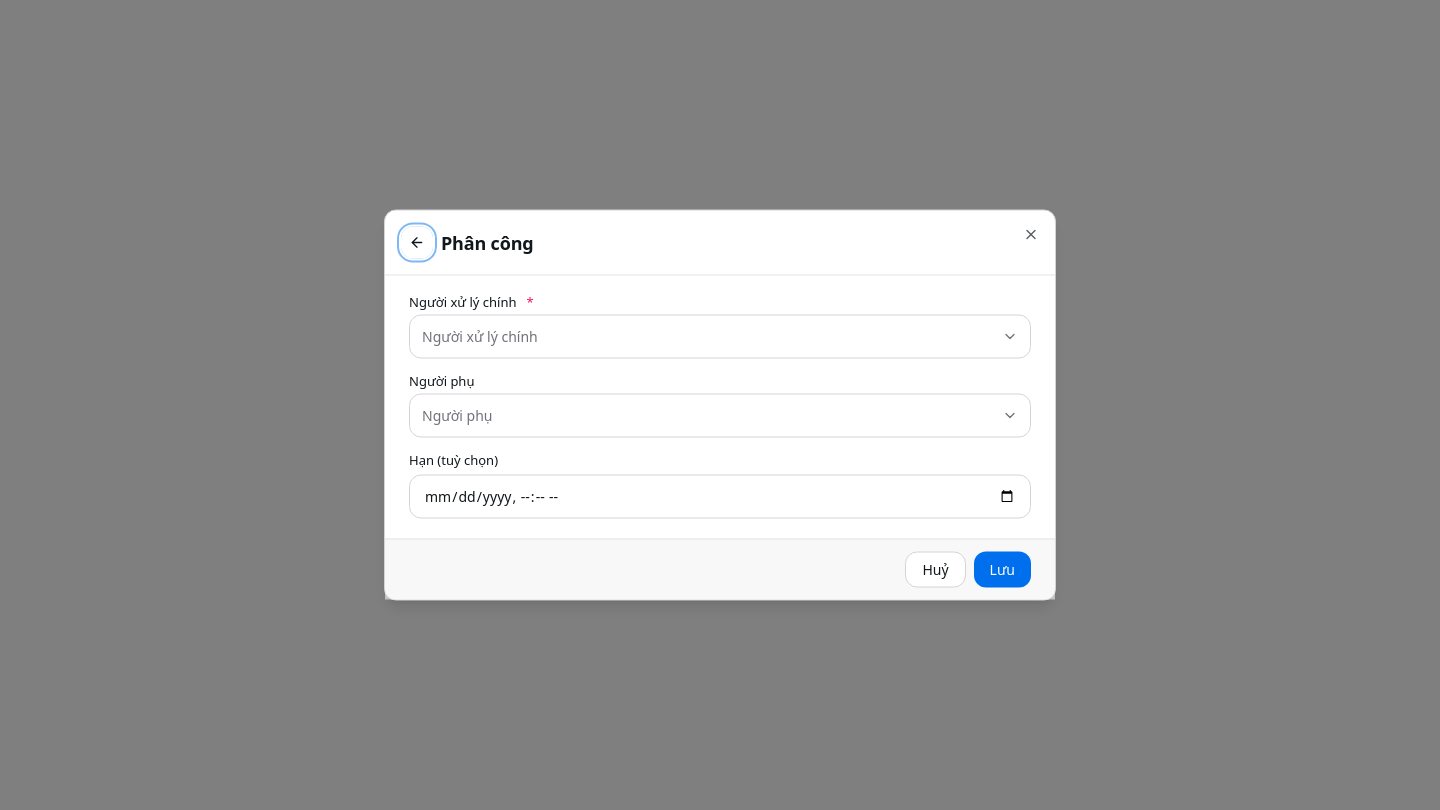
Test: người đã chọn làm xử lý chính thì không còn trong danh sách xử lý phụ
Click the dropdown labelled "Người xử lý chính": (480, 336) [409, 314, 1031, 358]
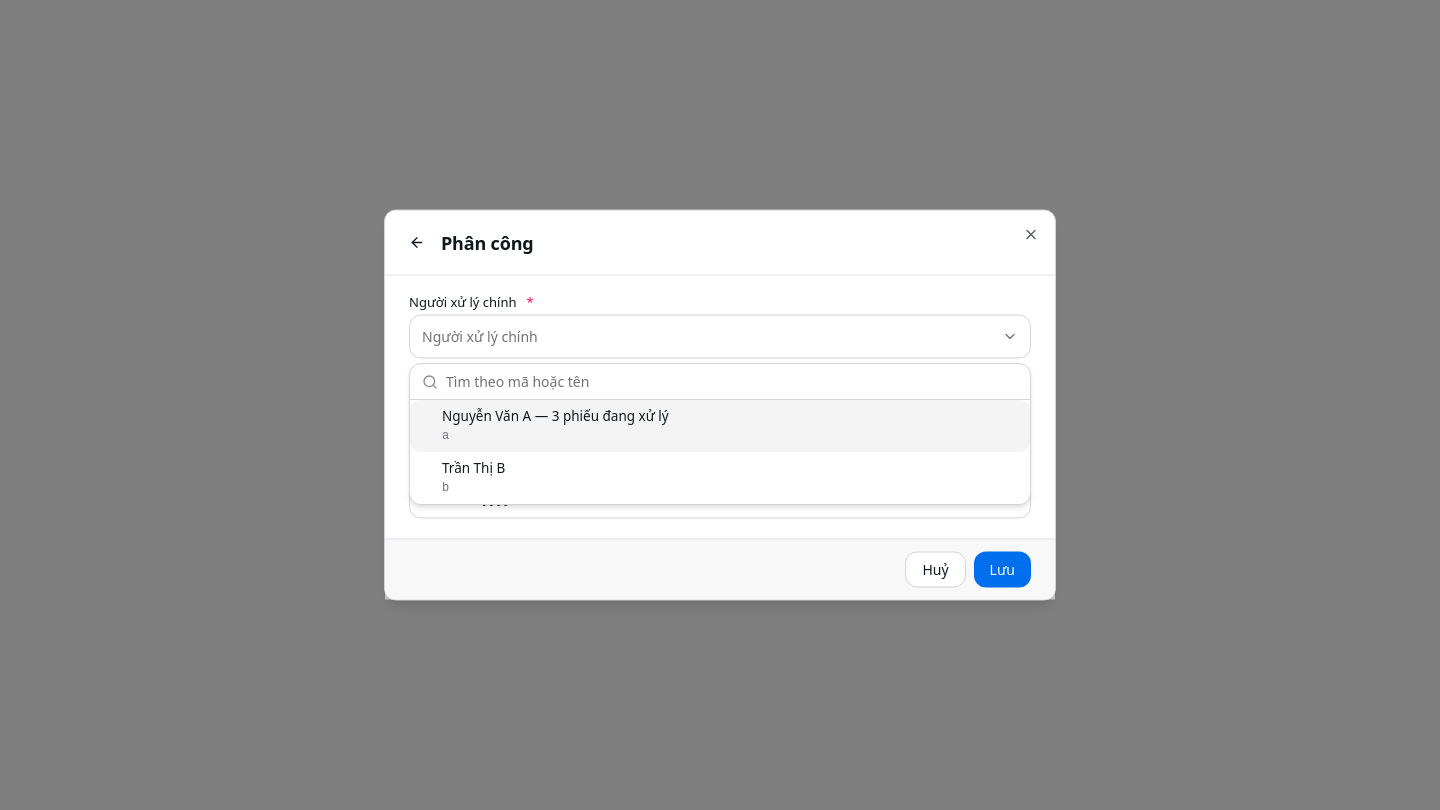
Click the option "Nguyễn Văn A — 3 phiếu đang xử lý a": (549, 414) [410, 400, 1030, 452]
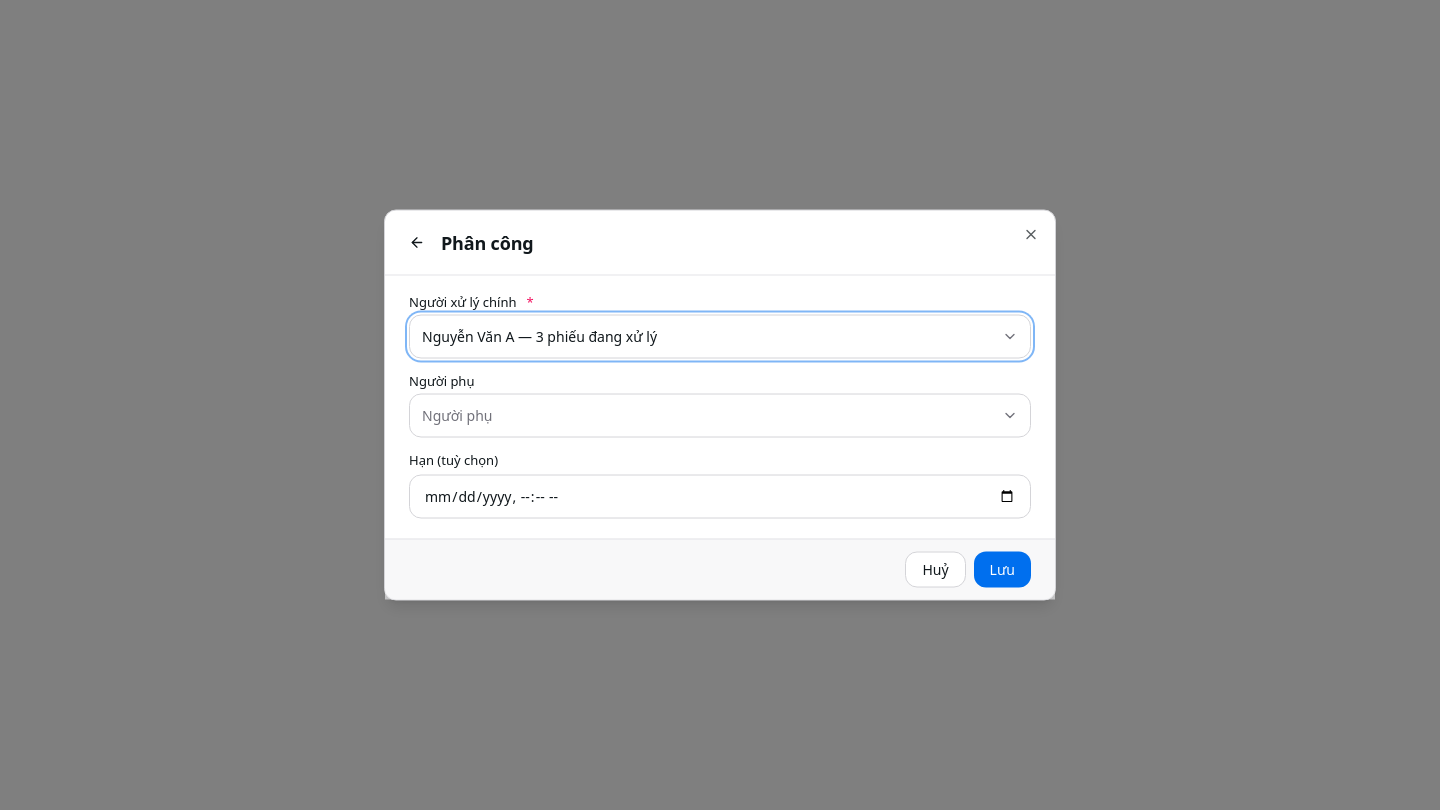
Click the dropdown labelled "Người phụ": (457, 415) [409, 394, 1031, 438]
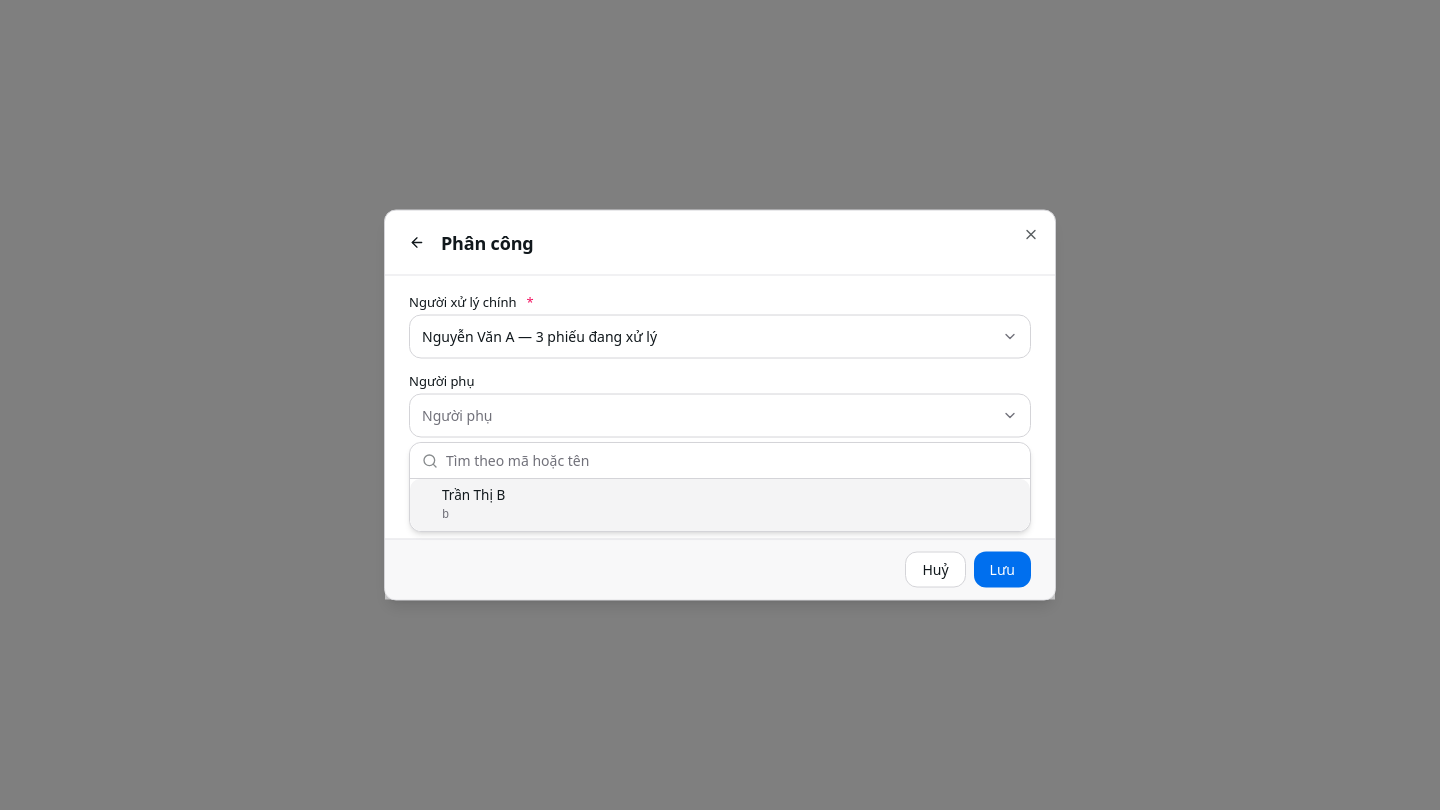
Result: the option "Trần Thị B b" is shown at [410, 479, 1030, 531]
